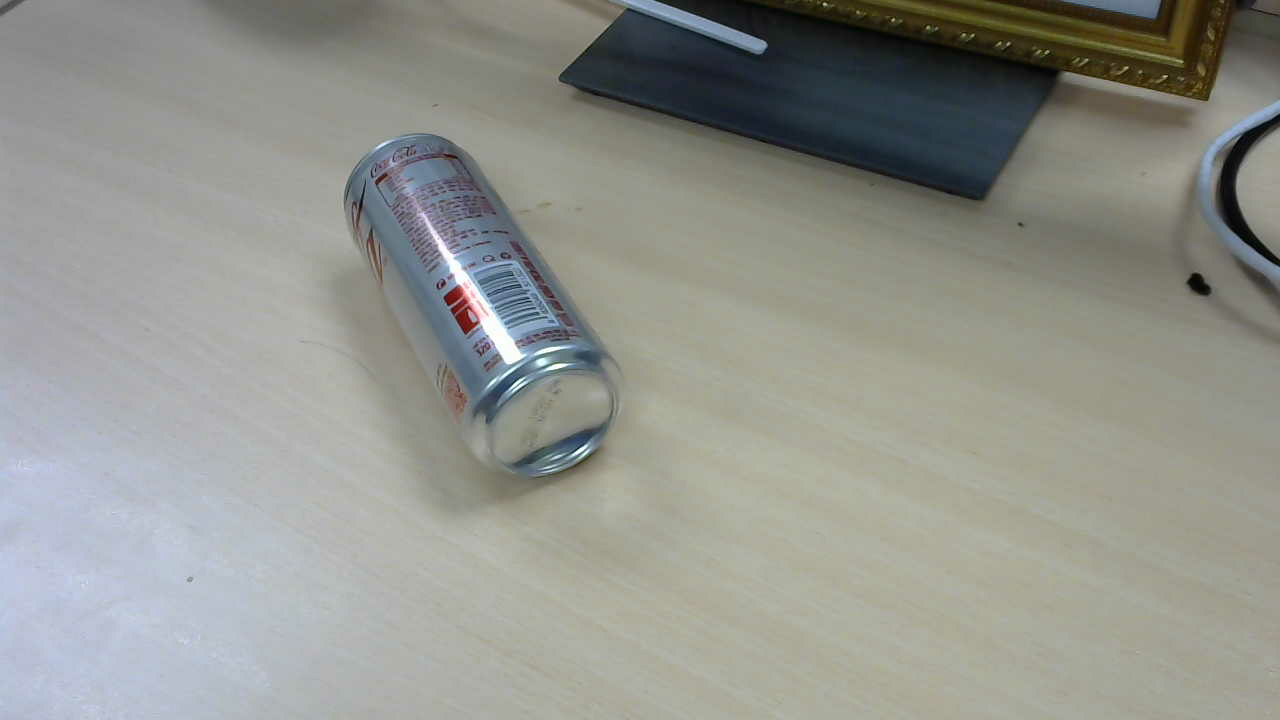Coca_Cola: (345, 136, 634, 484)
